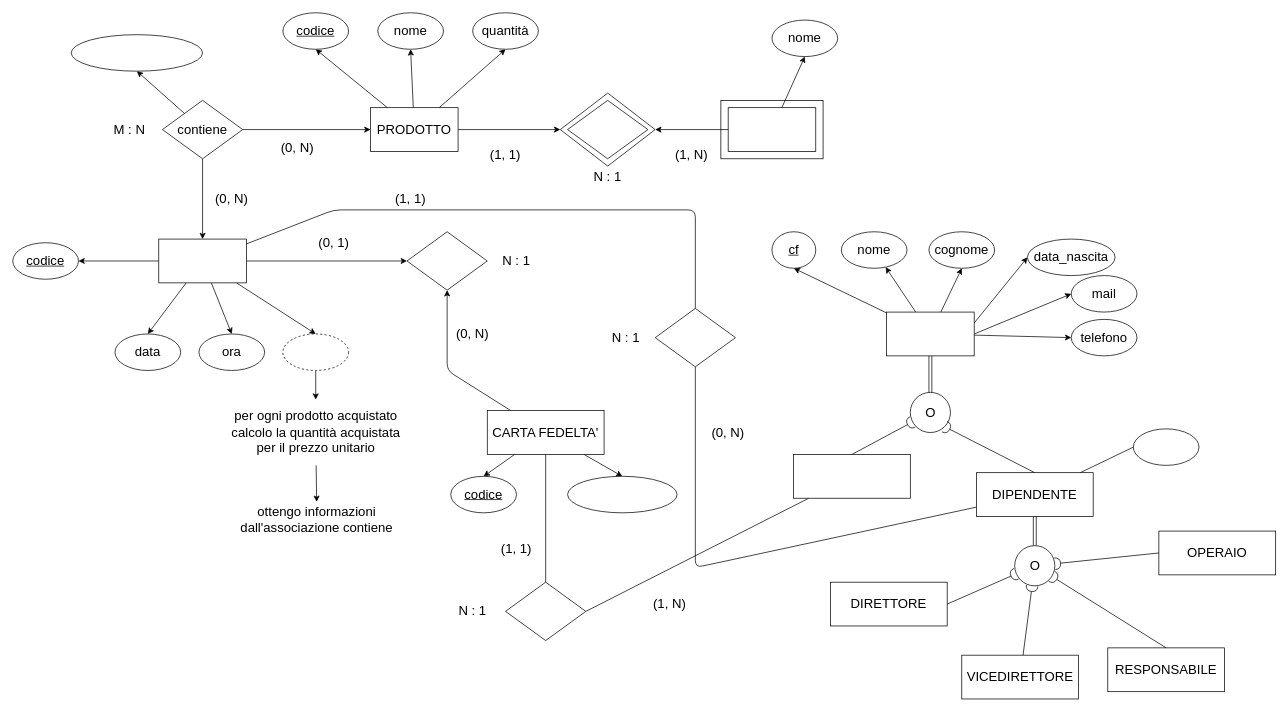
This 1288x712 diagram has some shape labels left out. The shapes that lost their labels are listed below. From the top down, each one's centre as x and y in pixels, then its label:
the point at 136,52: quantità_acquistata
the point at 607,129: appartiene
the point at 771,129: REPARTO
the point at 202,260: SCONTRINO
the point at 446,260: presenta
the point at 315,351: totale
the point at 694,337: emette
the point at 930,333: PERSONA
the point at 1166,446: livello
the point at 622,494: data_emissione
the point at 851,476: CLIENTE
the point at 545,611: ha
